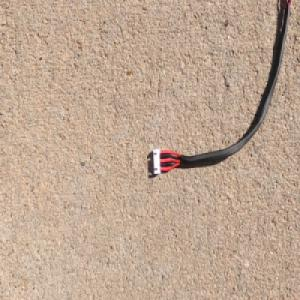Wire: (151, 0, 294, 175)
